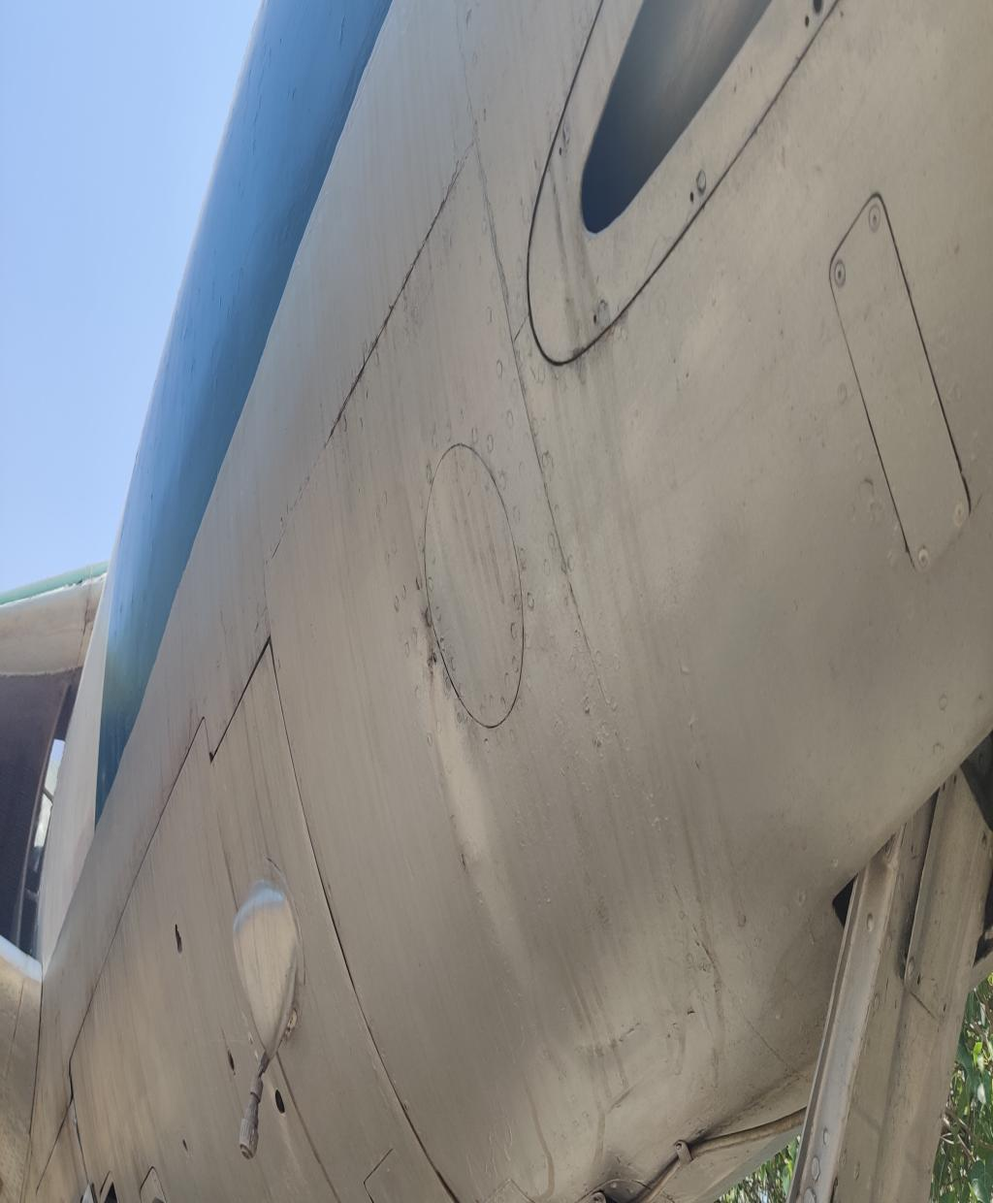dent: (424, 657, 531, 970), (576, 937, 651, 1118)
